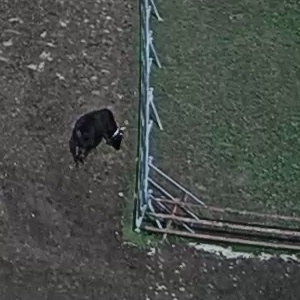cow: (57, 93, 131, 173)
